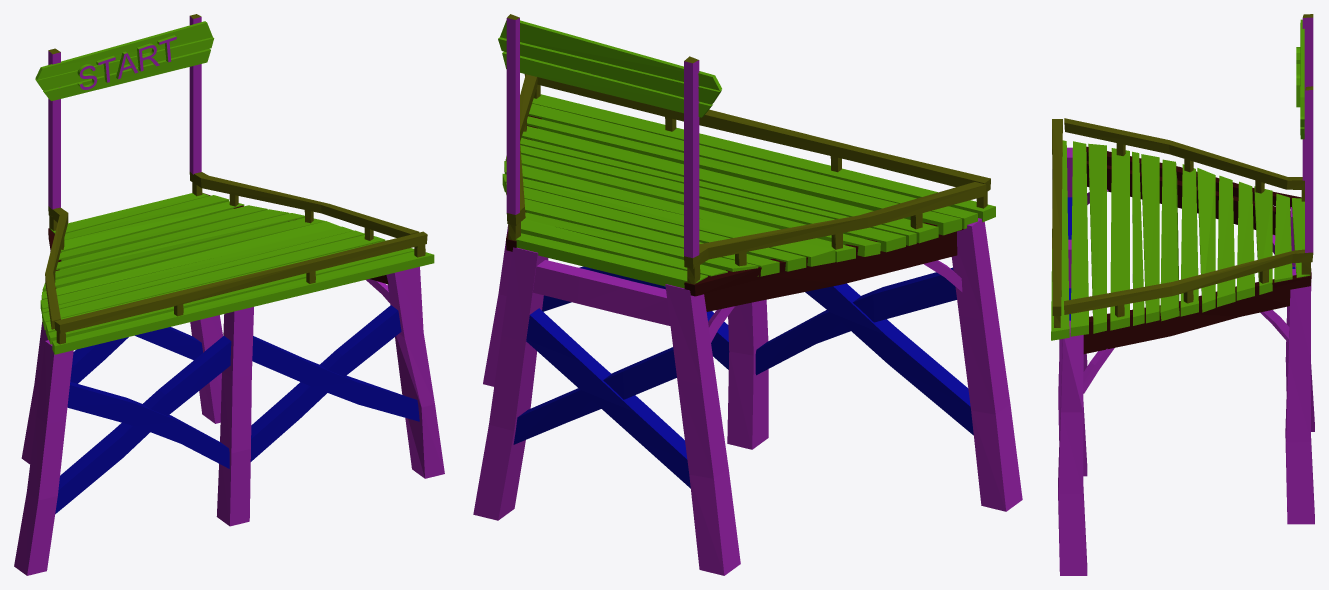
The model's file is Platform_1.FBX.
3 renders of one model, left to right at view 1: azimuth 30°, elevation 25°; view 2: azimuth 150°, elevation 25°; view 3: azimuth 270°, elevation 25°, orthographic. The views are drawn at different scales.
Parts seen in each view (by area): view 1: TextPlus002; view 2: TextPlus002; view 3: TextPlus002.
Boxes of the visible parts, <box> form: TextPlus002: <box>14,14,444,575</box>; TextPlus002: <box>473,14,1022,575</box>; TextPlus002: <box>1051,14,1314,575</box>.
Size of the model in its own units: 1718 by 1581 by 897.
